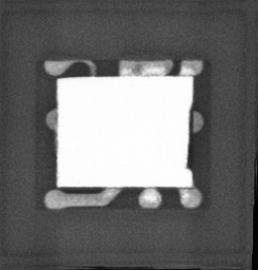DIE_BROKEN: (183, 105, 193, 172)
